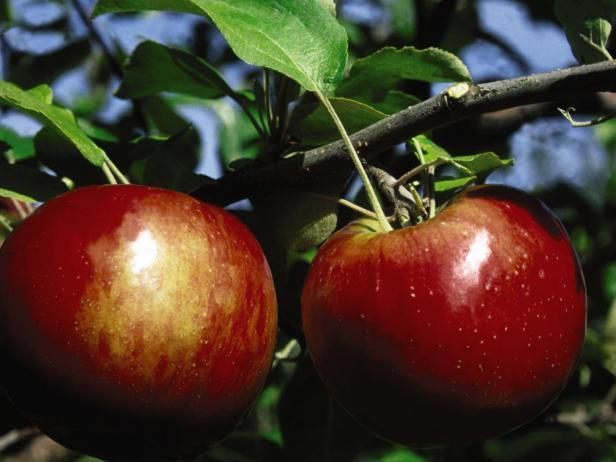apple: (1, 178, 279, 442), (305, 183, 587, 436)
